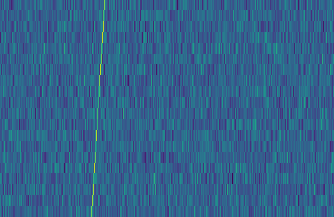signal: (84, 0, 107, 217)
